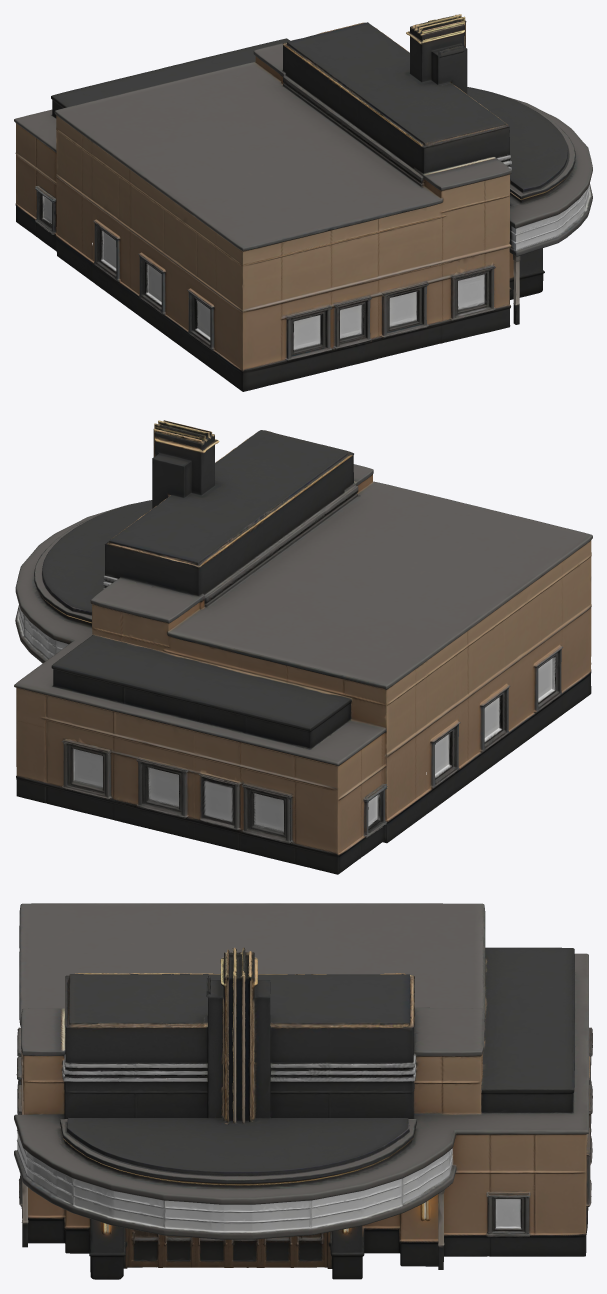
The model's file is cinema.glb.
3 views of the same model, one above another, from view 1: azimuth 30°, elevation 25°; view 2: azimuth 150°, elevation 25°; view 3: azimuth 270°, elevation 25° (orthographic). The views are drawn at different scales.
Visible parts, largest first — view 1: tripo_node_8db9cc81-a424-41ee-9432-07786de86a19; view 2: tripo_node_8db9cc81-a424-41ee-9432-07786de86a19; view 3: tripo_node_8db9cc81-a424-41ee-9432-07786de86a19.
Part boxes in pixels (x1,y1,x2,y2): tripo_node_8db9cc81-a424-41ee-9432-07786de86a19: (14, 14, 592, 391); tripo_node_8db9cc81-a424-41ee-9432-07786de86a19: (14, 420, 592, 874); tripo_node_8db9cc81-a424-41ee-9432-07786de86a19: (14, 903, 592, 1279).
Bounding box in the file's own units: 21.8 × 12 × 21.49.
1 material, 1 textured.
